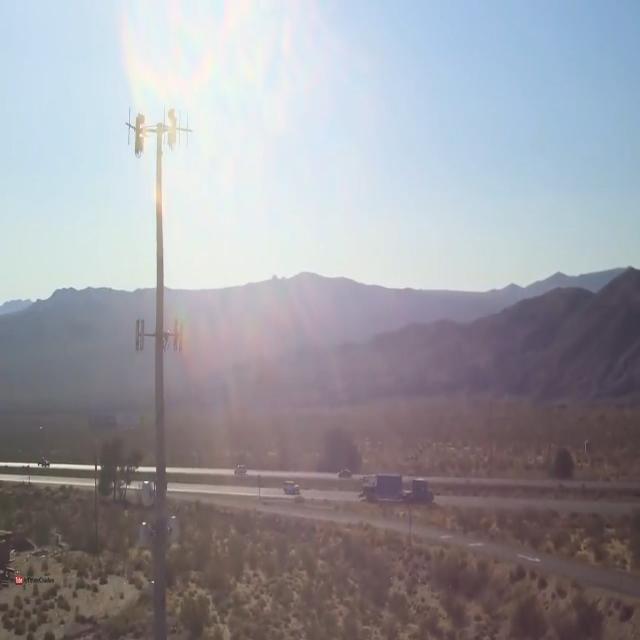Pole: (130, 103, 188, 640)
